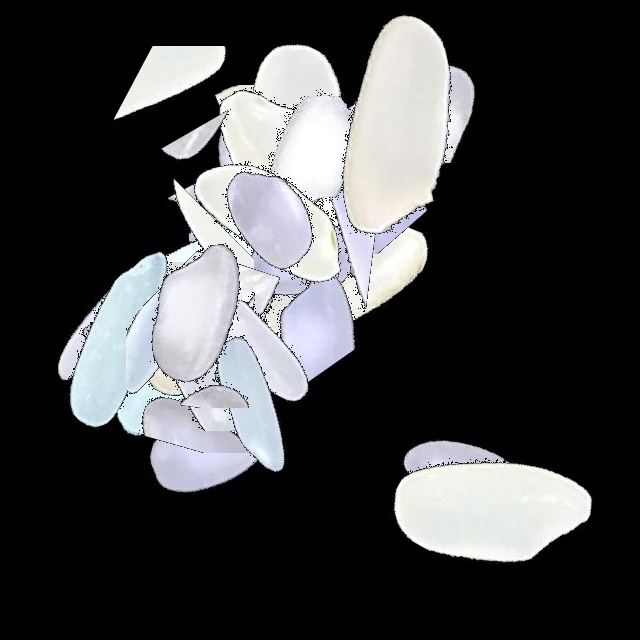Broken: (128, 93, 378, 267), (71, 259, 321, 431), (227, 77, 477, 244), (123, 211, 283, 461), (157, 183, 313, 433), (216, 174, 368, 424), (53, 227, 201, 477), (126, 227, 272, 477), (85, 262, 335, 396), (181, 189, 431, 319), (88, 325, 338, 453), (229, 132, 479, 254), (63, 46, 313, 168), (358, 41, 608, 163), (231, 177, 347, 427), (144, 156, 254, 406), (126, 181, 376, 287), (118, 109, 368, 208), (159, 85, 409, 183), (239, 47, 329, 297), (79, 322, 329, 408), (191, 238, 275, 488), (237, 146, 320, 396), (86, 179, 336, 259), (176, 172, 255, 422), (176, 167, 255, 417), (128, 162, 378, 240)
Full: (215, 157, 465, 407), (158, 56, 408, 306), (82, 330, 332, 580), (87, 240, 337, 490), (161, 24, 411, 274), (133, 45, 383, 295), (167, 45, 417, 295), (123, 170, 373, 420), (63, 232, 313, 482), (87, 143, 337, 393), (27, 219, 277, 469), (176, 136, 426, 386), (92, 225, 342, 475), (333, 353, 583, 603), (0, 214, 250, 464), (188, 32, 438, 282), (129, 222, 379, 472), (141, 98, 391, 348), (363, 382, 613, 632), (128, 279, 378, 529), (142, 92, 392, 342), (72, 190, 322, 440), (268, 0, 518, 250)
